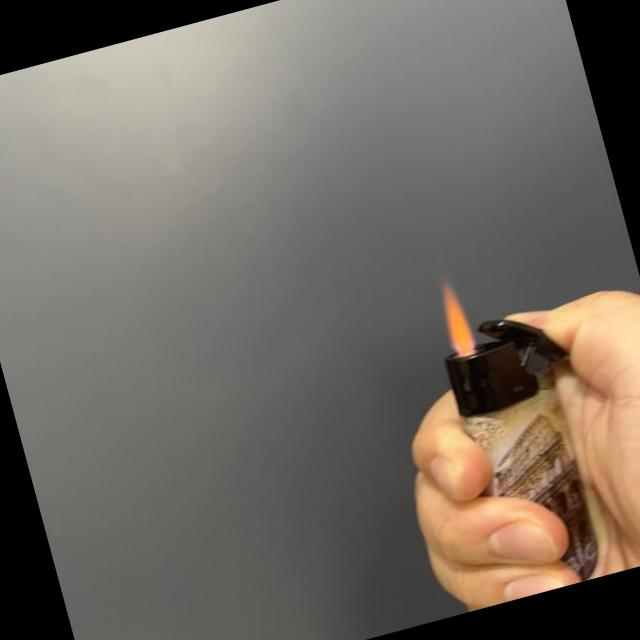Fire: (434, 280, 482, 358)
